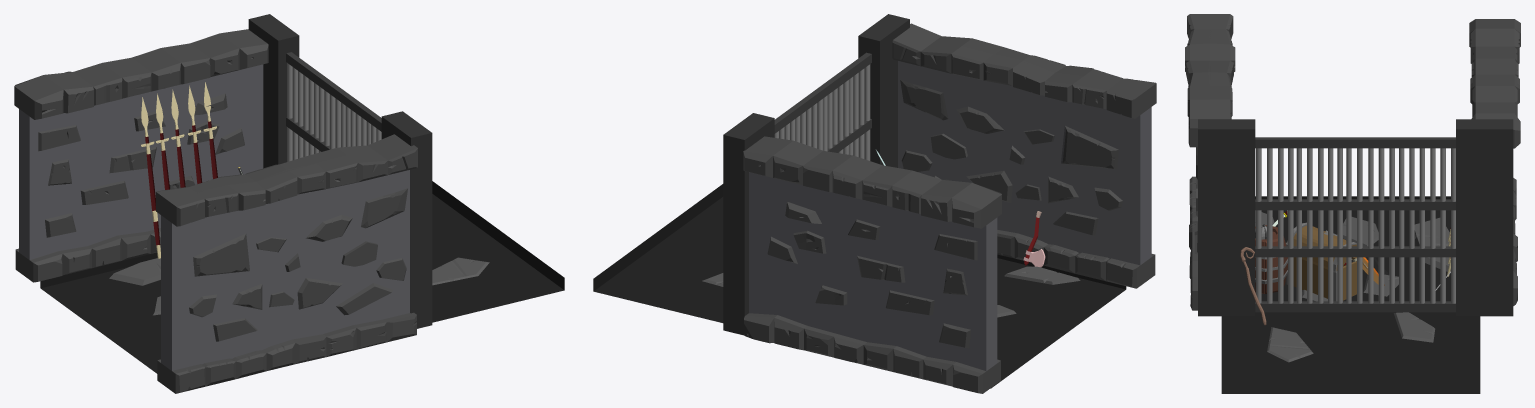
File: uploads_files_2396256_ExampleScene.gltf
The picture shows the model from 3 angles, left to right: view 1: azimuth 30°, elevation 25°; view 2: azimuth 150°, elevation 25°; view 3: azimuth 270°, elevation 25°; orthographic projection. The views are drawn at different scales.
Parts seen in each view (by area): view 1: Cube.018, Cube.017, Cube.016, Cube.015, Cube.050, Cube.004, Cylinder.001, Cube.005, Cube.049, Cube.003; view 2: Cube.016, Cube.018, Cube.015, Cube.017, Cube.050, Cube.005, Cylinder.001, Cube.004, Cube.003, Cube.049; view 3: Cube.050, Cylinder.001, Cube.005, Cube.004, Cube.017, Cube.015, Cube.049, Cube.003, Cube, Cube.002, Cube.001, Cube.014 (+3 smaller).
Boxes of the visible parts, x1,y1,x2,y2 form: Cube.018: [161, 170, 410, 370]; Cube.017: [156, 134, 417, 393]; Cube.016: [19, 64, 263, 259]; Cube.015: [14, 29, 268, 282]; Cube.050: [40, 181, 564, 373]; Cube.004: [381, 111, 432, 328]; Cylinder.001: [287, 63, 381, 161]; Cube.005: [248, 14, 299, 168]; Cube.049: [109, 257, 489, 315]; Cube.003: [286, 52, 381, 131]; Cube.016: [749, 172, 997, 371]; Cube.018: [898, 61, 1151, 265]; Cube.015: [743, 136, 1001, 393]; Cube.017: [892, 23, 1156, 288]; Cube.050: [593, 184, 1126, 388]; Cube.005: [723, 113, 774, 335]; Cylinder.001: [774, 64, 870, 160]; Cube.004: [858, 14, 909, 167]; Cube.003: [774, 52, 871, 133]; Cube.049: [702, 266, 1080, 317]; Cube.050: [1221, 196, 1480, 393]; Cylinder.001: [1256, 148, 1455, 303]; Cube.005: [1456, 119, 1513, 316]; Cube.004: [1198, 119, 1255, 316]; Cube.017: [1185, 14, 1235, 310]; Cube.015: [1469, 19, 1520, 305]; Cube.049: [1255, 210, 1450, 362]; Cube.003: [1255, 137, 1455, 148]; Cube: [1255, 301, 1455, 312]; Cube.002: [1255, 199, 1455, 210]; Cube.001: [1255, 246, 1455, 257]; Cube.014: [1293, 257, 1356, 300].
Bounding box in the file's own units: 15.83 × 7.55 × 11.73.
